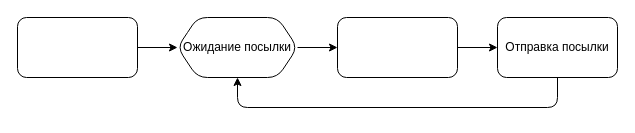
This 635x133 diagram has some shape labels left out. Each missing label, with the box of its shape:
Начало: (16, 16, 138, 78)
Посылка пришла: (336, 16, 458, 78)
